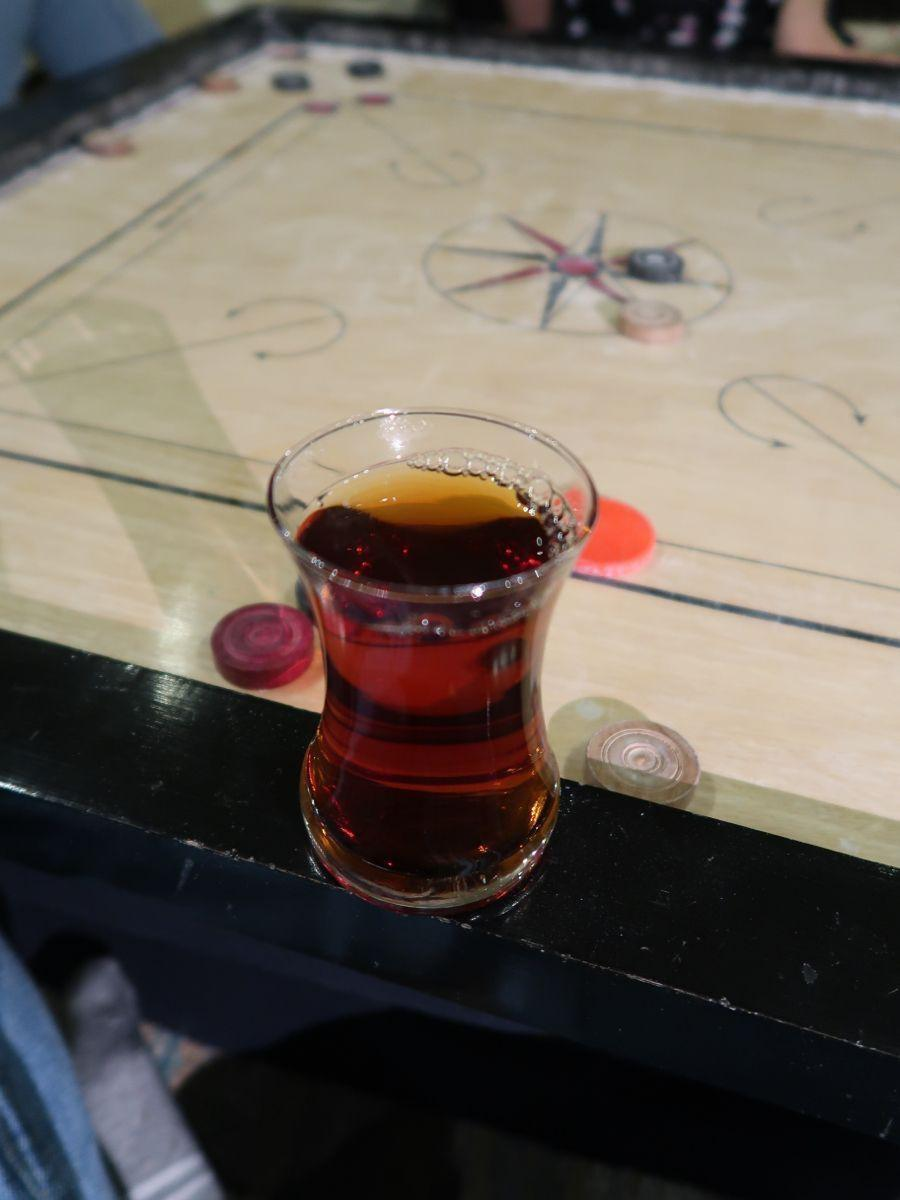glass-normal: (265, 405, 603, 920)
